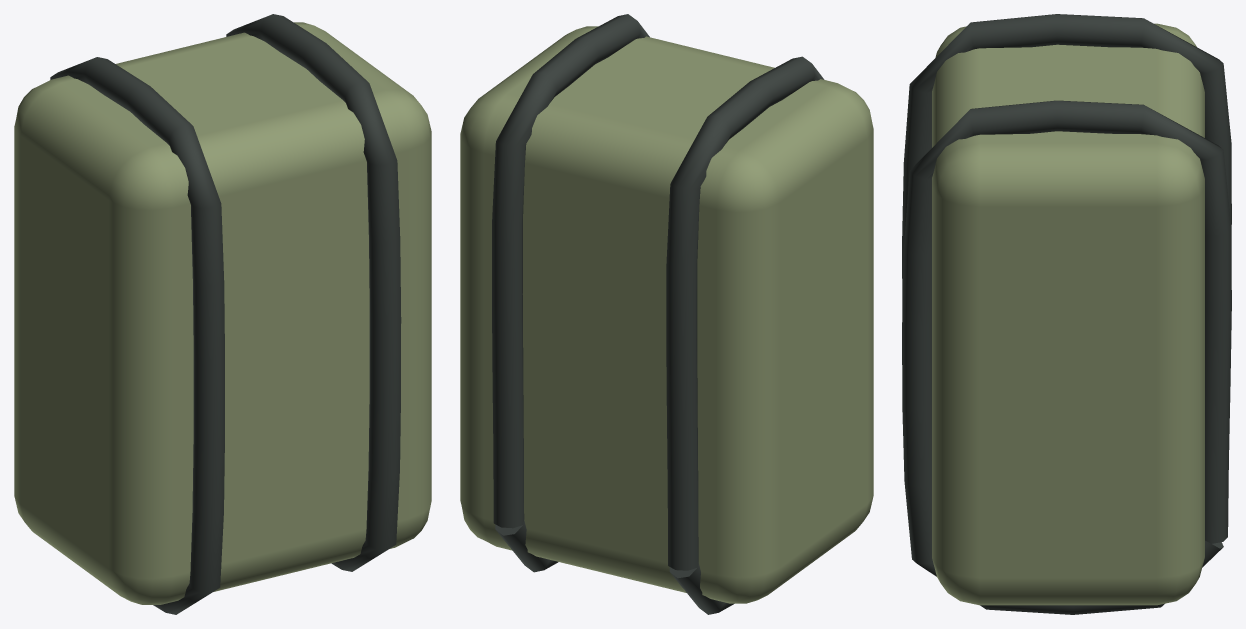
The model's file is backpacks-and-expedition-storage-compression-sack-ef0c2fe3__21091.glb.
3 views of the same model, side by side, from view 1: azimuth 30°, elevation 25°; view 2: azimuth 150°, elevation 25°; view 3: azimuth 270°, elevation 25° (orthographic).
Visible parts, largest first — view 1: compression-sack; view 2: compression-sack; view 3: compression-sack.
Boxes of the visible parts, x1,y1,x2,y2 form: compression-sack: [14, 14, 431, 614]; compression-sack: [460, 14, 873, 614]; compression-sack: [902, 14, 1231, 614].
Size of the model in its own units: 0.27 by 0.4152 by 0.2417.
